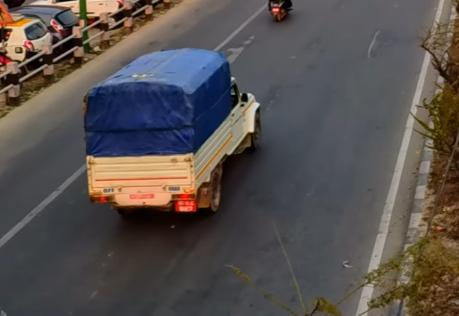car: (31, 0, 89, 50)
scooter: (262, 0, 301, 29)
taxi: (0, 9, 52, 66)
transport_vehicle: (82, 45, 261, 217)
